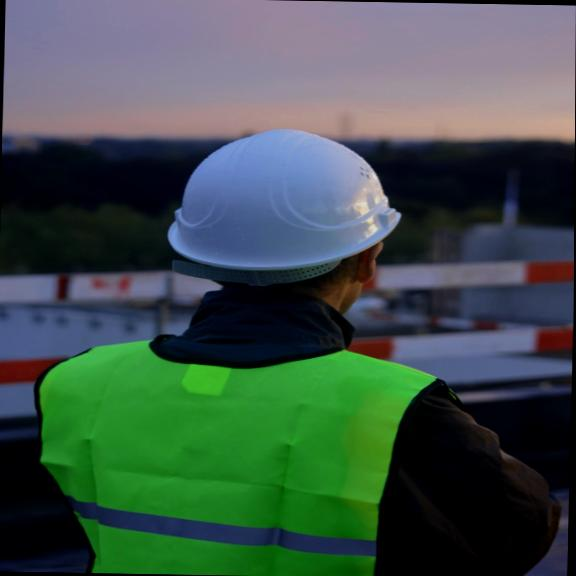safety_vest: (25, 332, 477, 576)
